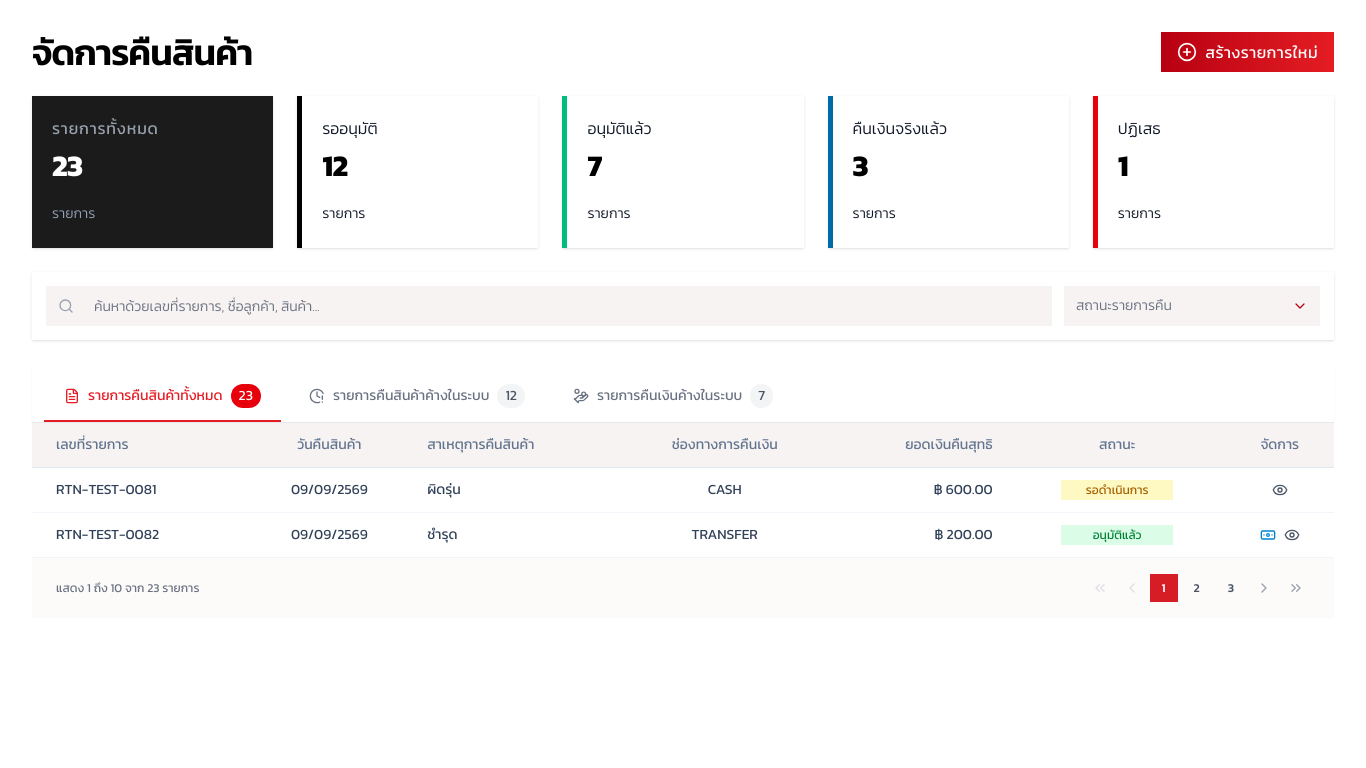
Scenario: Return list › lets employees refund approved rows but does not expose approval actions
This screenshot has width=1366, height=768.
Expected: the row "RTN-TEST-0081 09/09/2569 ผิดรุ่น CASH ฿ 600.00 รอดำเนินการ" is shown, [32,468,1334,512]
Step 1. Click the button named "ดำเนินการคืนเงินจริง" → (1268, 535), box [1260,527,1276,543]
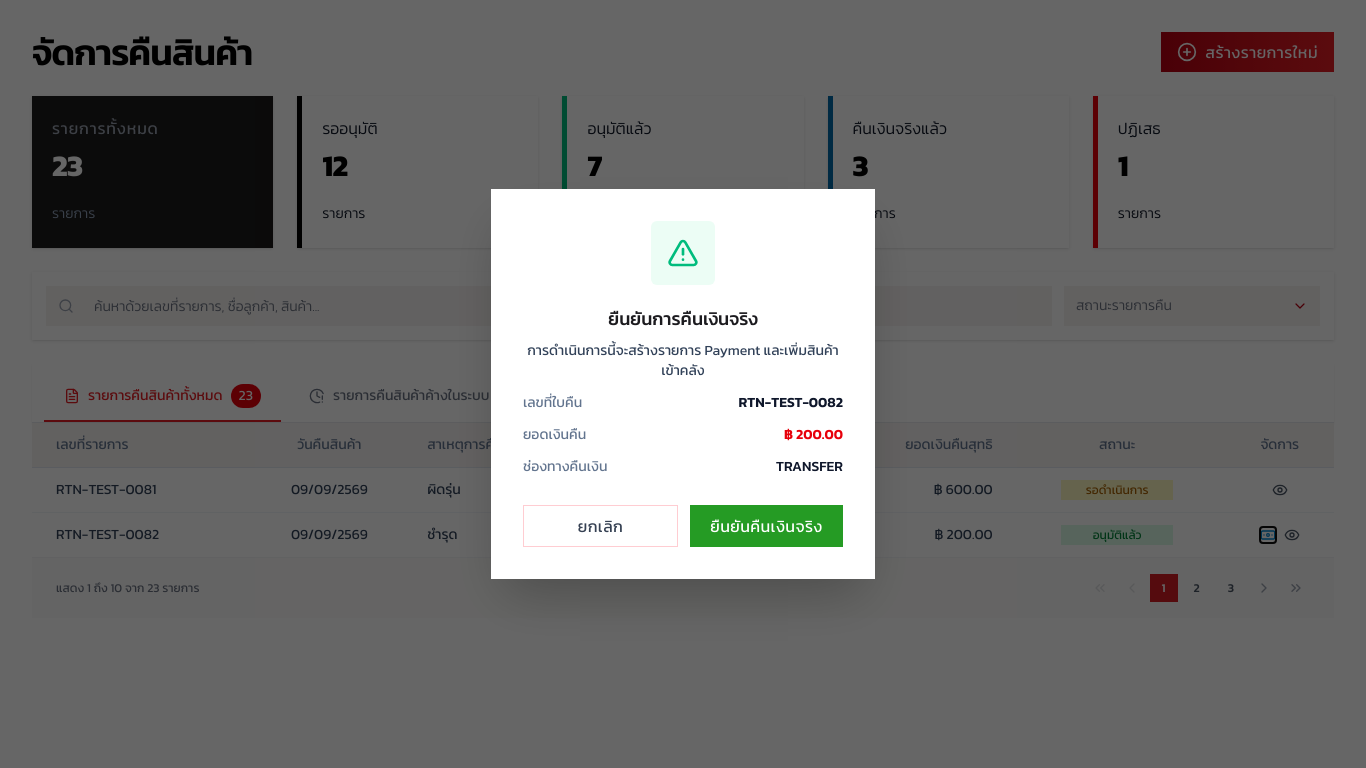
Expected: the text "RTN-TEST-0082" is shown, [739,393,843,413]
Step 2. Click the button "ยกเลิก" → (600, 526), box [523,505,678,547]
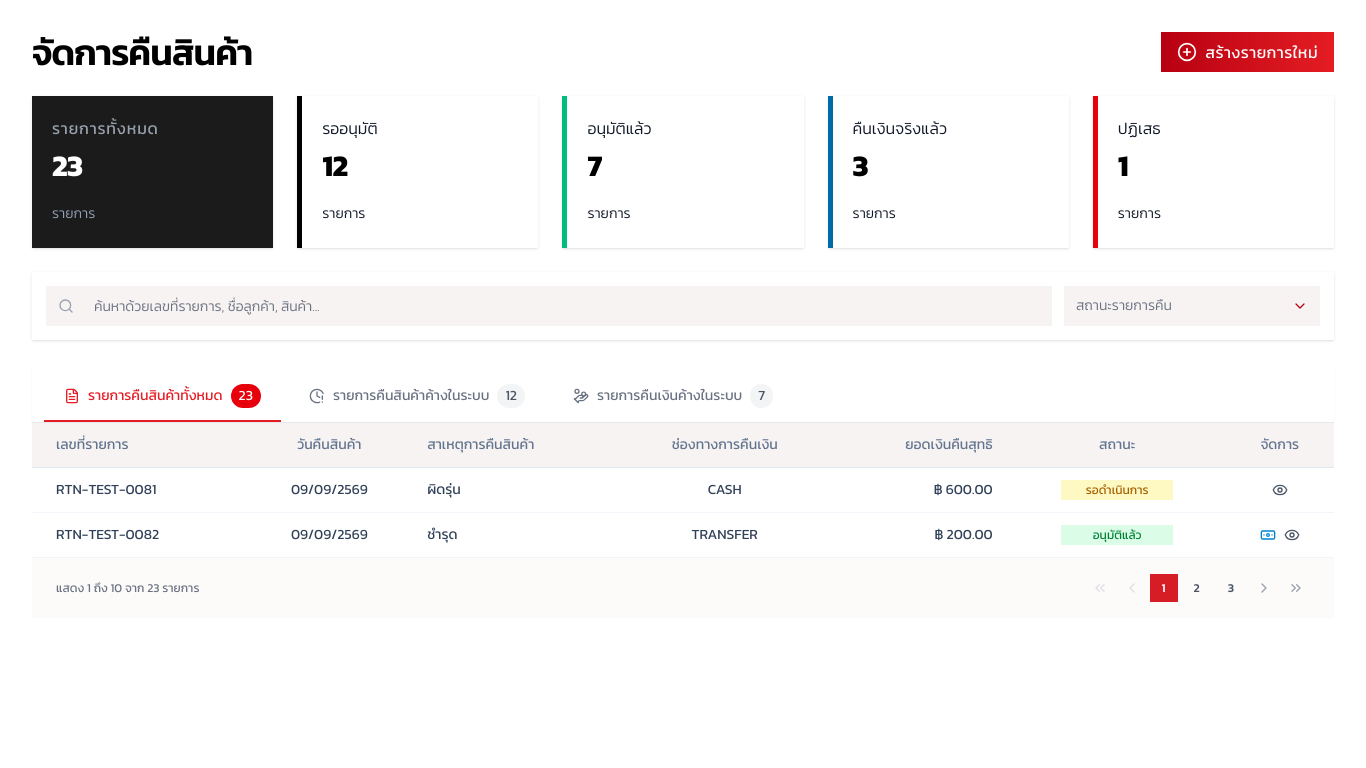
Step 3. Click the button named "ดำเนินการคืนเงินจริง" → (1268, 535), box [1260,527,1276,543]
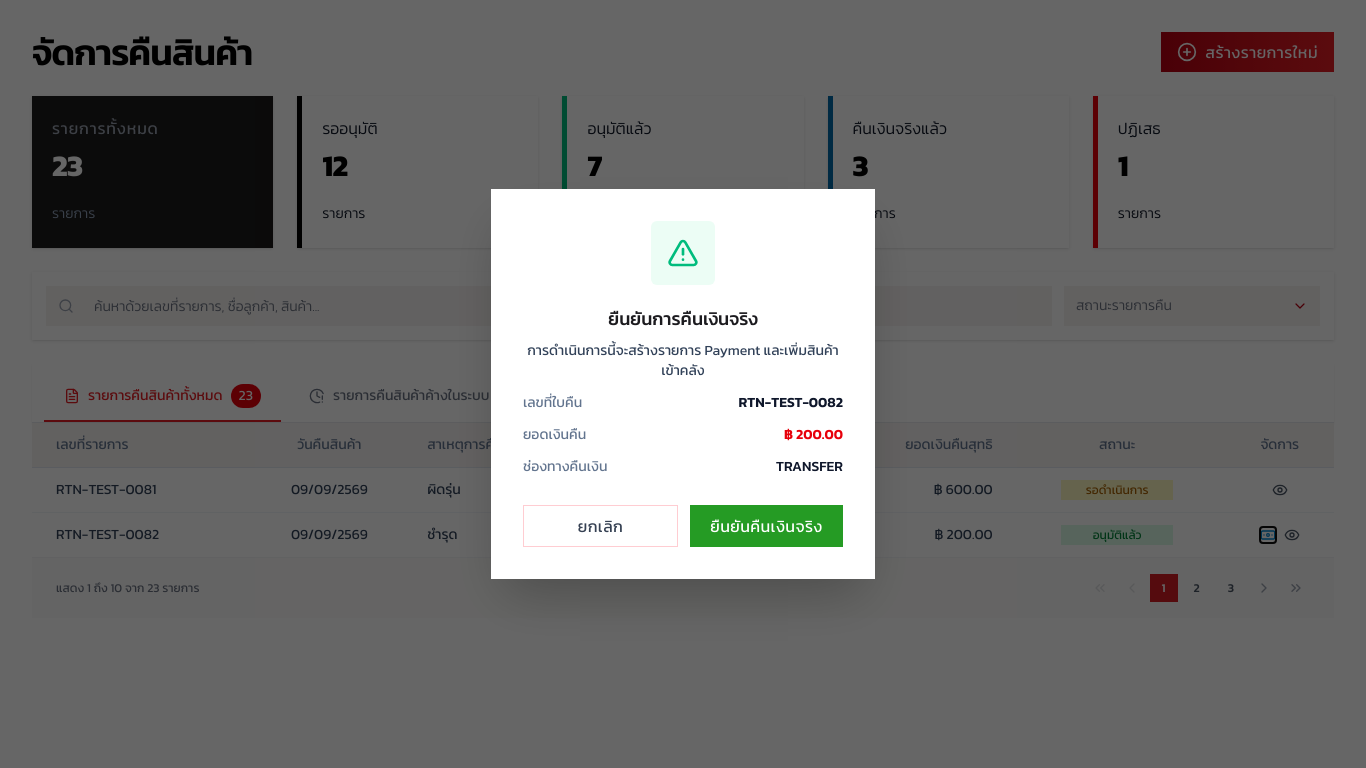
Step 4. Click the button "ยืนยันคืนเงินจริง" → (766, 526), box [690,505,843,547]
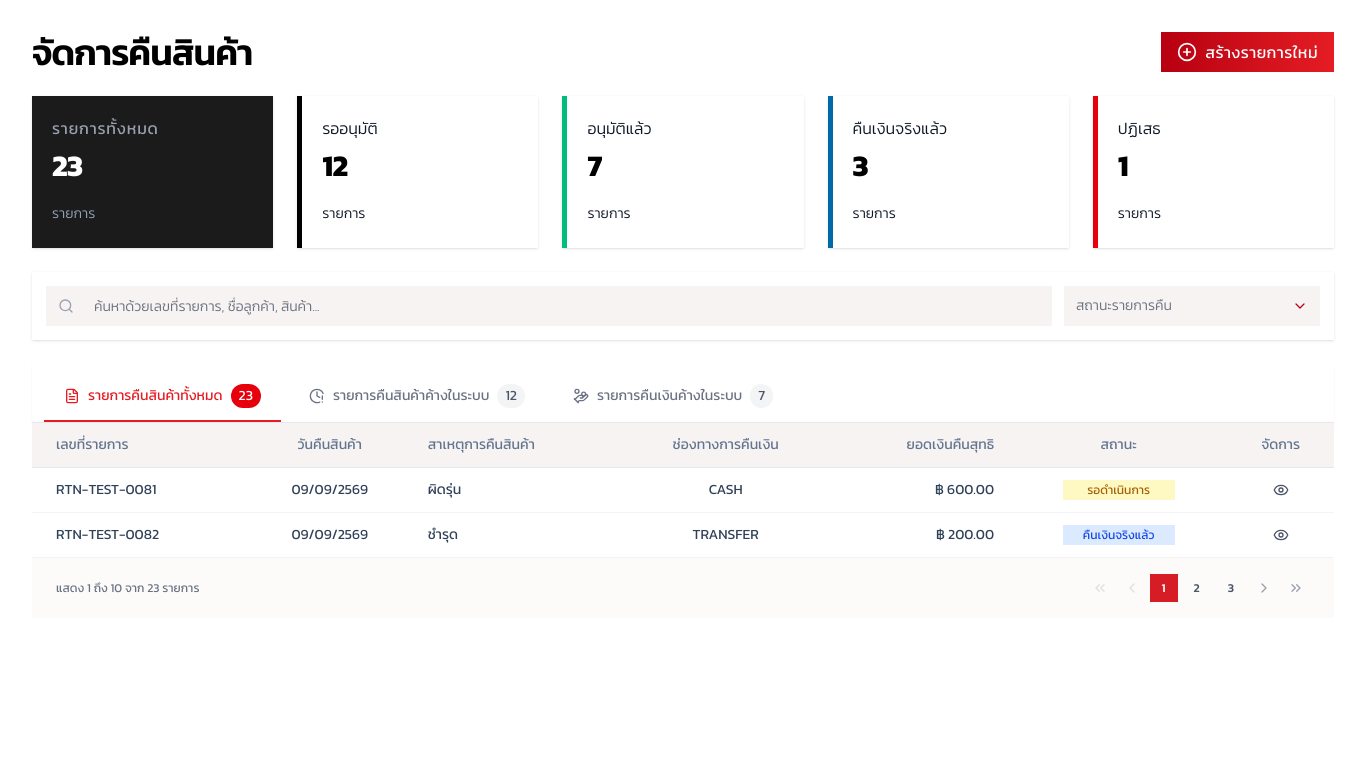
Expected: the text "คืนเงินจริงแล้ว" is shown, [1063,525,1175,545]
Expected: the button "ดำเนินการคืนเงินจริง" is gone
